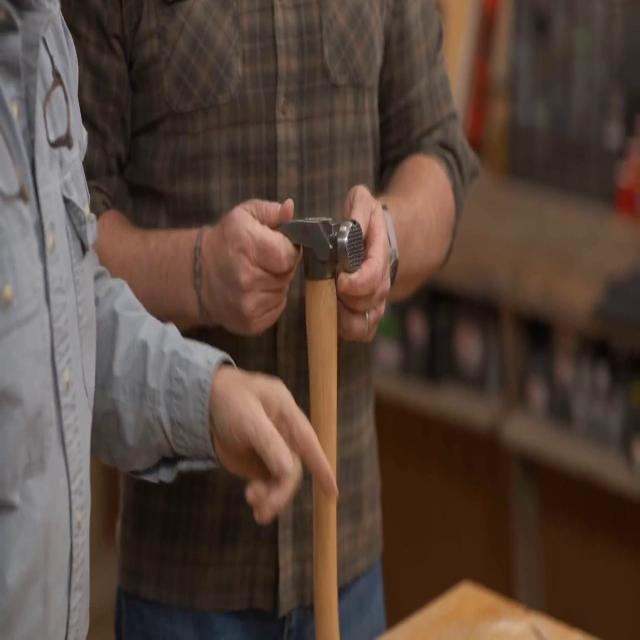hammer: (272, 214, 365, 640)
